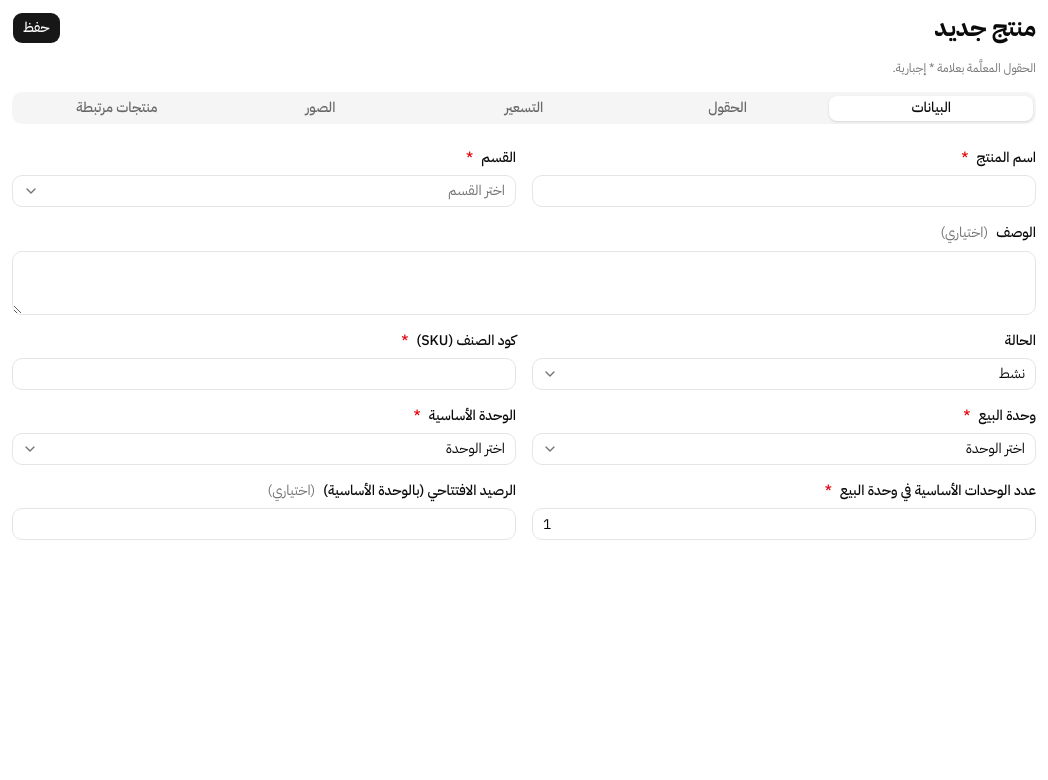
ProductForm › marks the required fields with * and the optional ones, with a legend
The image size is (1048, 780).
Expected: the text "الحقول المعلَّمة بعلامة * إجبارية." is shown, top-left (892, 59), bottom-right (1036, 77)
Expected: the field labelled "اسم المنتج *" is shown, top-left (532, 175), bottom-right (1036, 207)
Click the tab "التسعير": (524, 108) top-left (422, 96), bottom-right (626, 120)
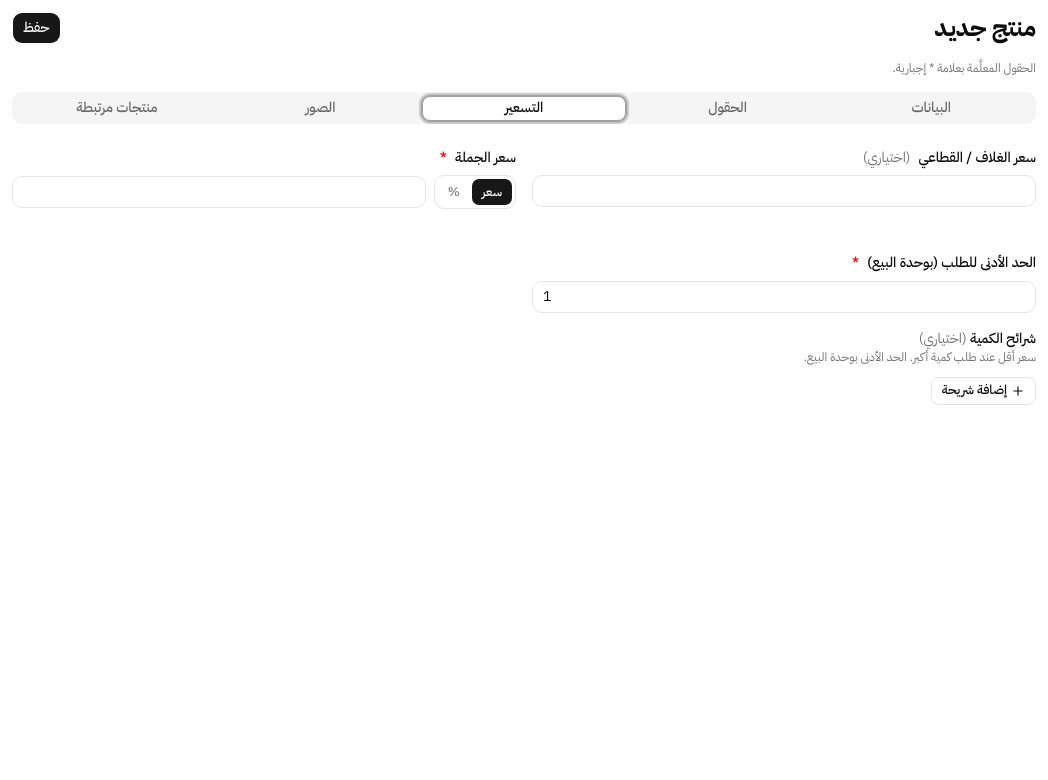
Result: the field labelled "سعر الجملة *" is shown at top-left (12, 176), bottom-right (426, 208)
Result: the field labelled "الحد الأدنى للطلب (بوحدة البيع) *" is shown at top-left (532, 280), bottom-right (1036, 312)
Result: the text "شرائح الكمية" reads "شرائح الكمية (اختياري)" at top-left (919, 328), bottom-right (1036, 348)
